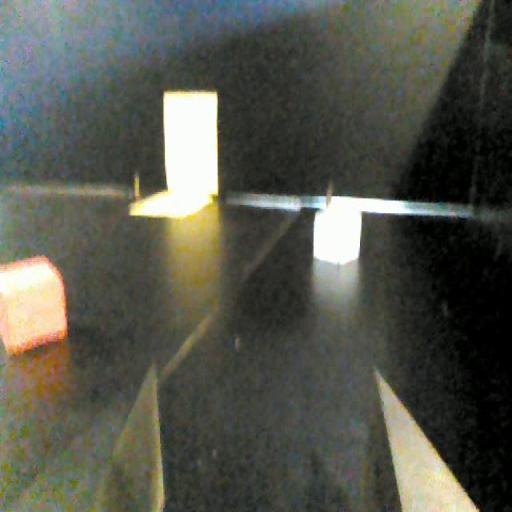cube: (0, 252, 70, 359), (312, 196, 366, 272)
